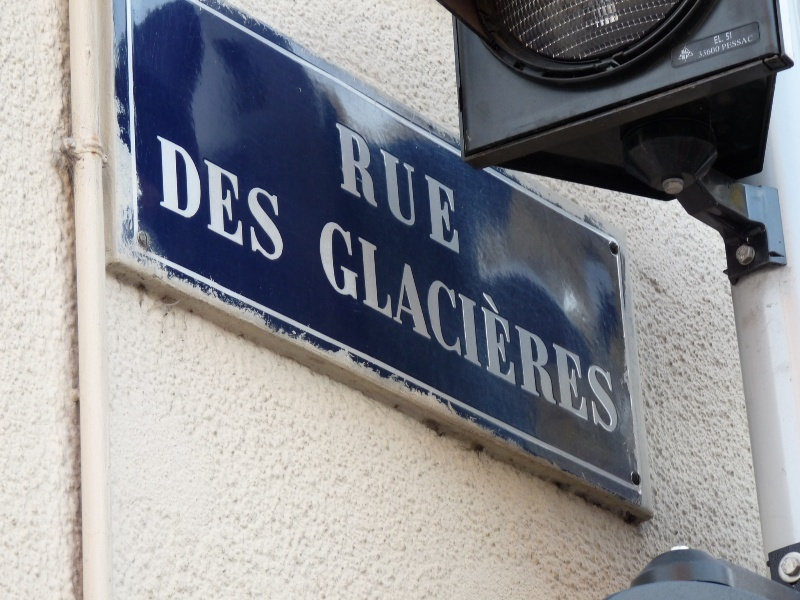text: (337, 204, 352, 439), (353, 204, 368, 439), (369, 204, 384, 439), (385, 204, 400, 439), (401, 204, 416, 439), (417, 204, 432, 439), (433, 204, 448, 439), (449, 204, 464, 439), (465, 204, 480, 439), (481, 204, 496, 439), (497, 204, 512, 439), (513, 204, 528, 439), (529, 204, 544, 439), (545, 204, 560, 439), (561, 204, 576, 439), (577, 204, 592, 439), (593, 204, 608, 439), (322, 204, 336, 439), (609, 204, 621, 439), (337, 120, 352, 255), (353, 120, 368, 255), (369, 120, 384, 255), (385, 120, 400, 255), (401, 120, 416, 255), (417, 120, 432, 255), (433, 120, 448, 255), (161, 133, 176, 266), (177, 133, 192, 266), (193, 133, 208, 266), (209, 133, 224, 266), (225, 133, 240, 266), (241, 133, 256, 266), (257, 133, 272, 266), (449, 120, 461, 255), (273, 133, 285, 266), (156, 133, 160, 266), (737, 35, 752, 51), (722, 35, 736, 51), (705, 45, 720, 59), (726, 31, 736, 41), (699, 45, 704, 59), (714, 34, 720, 44), (682, 52, 688, 60), (681, 49, 688, 55), (721, 34, 724, 44), (689, 52, 692, 60), (753, 35, 754, 51)
